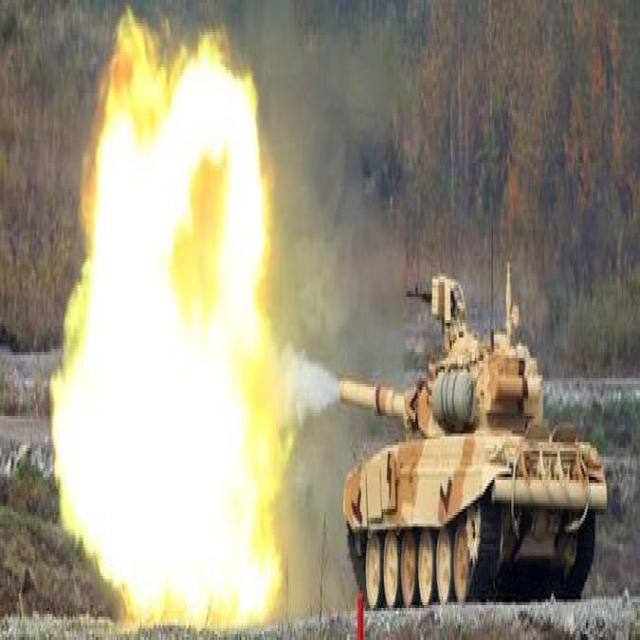Tanks: (330, 265, 622, 608)
